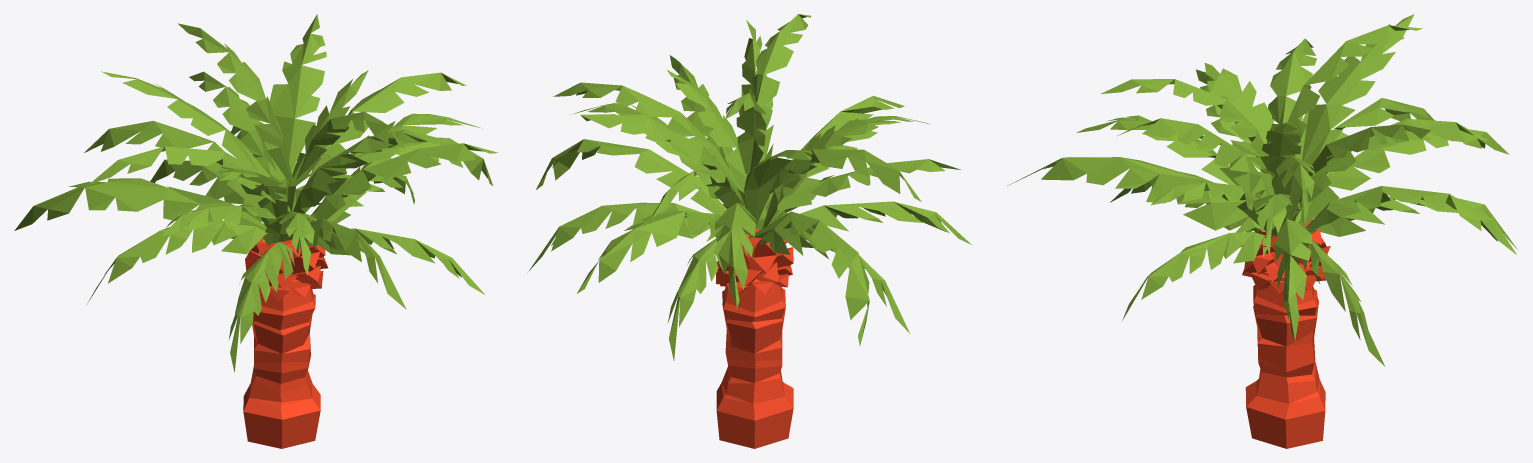
The model's file is SM_Tree_Palm_Canary_Date_C.fbx.
The picture shows the model from 3 angles, left to right: view 1: azimuth 30°, elevation 25°; view 2: azimuth 150°, elevation 25°; view 3: azimuth 270°, elevation 25°; orthographic projection. The views are drawn at different scales.
Visible parts, largest first — view 1: SM_Tree_Palm_Canary_Date_C; view 2: SM_Tree_Palm_Canary_Date_C; view 3: SM_Tree_Palm_Canary_Date_C.
Part boxes in pixels (box(x1,y1,x2,y2)): SM_Tree_Palm_Canary_Date_C: box(14, 14, 498, 448); SM_Tree_Palm_Canary_Date_C: box(527, 14, 971, 448); SM_Tree_Palm_Canary_Date_C: box(1007, 14, 1517, 448).
Bounding box in the file's own units: 5.98 × 5.38 × 6.45.
